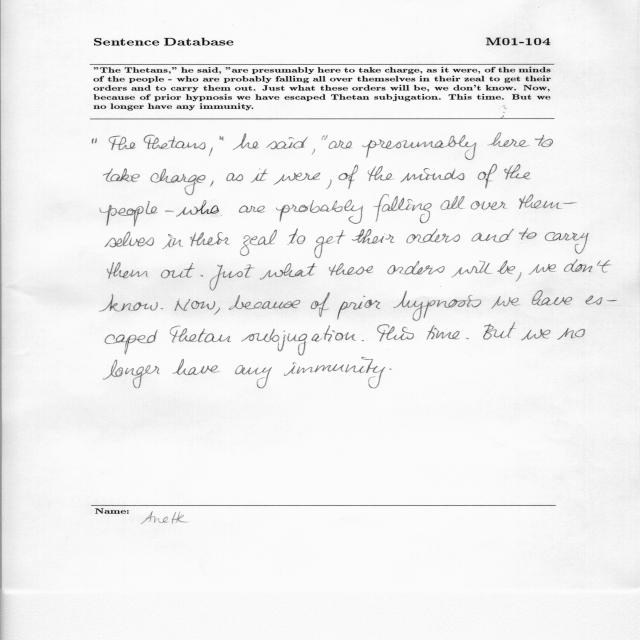word: (242, 326, 357, 356), (284, 358, 385, 389), (363, 135, 477, 160), (394, 291, 482, 321), (276, 200, 363, 224), (373, 195, 432, 224), (103, 360, 160, 388), (387, 261, 445, 287), (100, 201, 158, 226), (151, 169, 206, 195), (105, 330, 158, 354), (210, 265, 255, 291), (229, 295, 301, 310), (170, 326, 231, 343), (99, 294, 158, 311), (240, 229, 277, 256), (337, 296, 380, 319), (260, 263, 317, 280), (545, 232, 589, 254), (144, 135, 206, 150), (400, 168, 465, 182), (234, 365, 272, 388), (519, 194, 577, 209), (315, 230, 346, 258), (406, 229, 460, 244), (105, 232, 154, 248), (176, 200, 222, 217), (173, 359, 220, 375), (107, 262, 149, 279), (452, 261, 492, 278), (352, 229, 395, 244), (377, 325, 414, 342), (564, 260, 611, 273), (532, 291, 572, 306), (274, 172, 320, 185), (488, 133, 530, 147), (329, 263, 373, 276), (483, 323, 516, 340), (190, 232, 230, 246), (471, 229, 514, 242), (175, 298, 216, 311), (161, 263, 195, 278), (426, 325, 460, 340), (266, 137, 308, 149), (104, 168, 140, 182), (478, 164, 497, 189), (311, 292, 330, 317), (339, 165, 358, 189), (233, 133, 259, 150), (504, 164, 531, 180), (109, 135, 136, 150), (368, 166, 394, 181), (441, 196, 465, 210), (491, 296, 519, 308), (557, 328, 585, 340), (522, 329, 551, 340), (471, 201, 506, 210), (162, 234, 183, 249), (528, 264, 556, 275), (288, 228, 306, 245), (585, 296, 617, 305), (498, 260, 516, 274), (251, 169, 268, 183), (535, 135, 553, 147), (519, 228, 537, 240), (329, 140, 352, 149), (239, 206, 265, 213), (227, 173, 244, 181), (326, 179, 332, 189), (516, 273, 522, 282), (214, 307, 220, 315), (209, 147, 213, 156), (92, 138, 97, 144), (322, 135, 328, 140), (220, 136, 224, 141), (312, 149, 315, 155), (210, 181, 213, 187), (165, 210, 174, 212), (200, 275, 203, 277), (390, 368, 392, 370), (160, 308, 163, 309), (361, 340, 364, 341), (466, 338, 469, 339)
